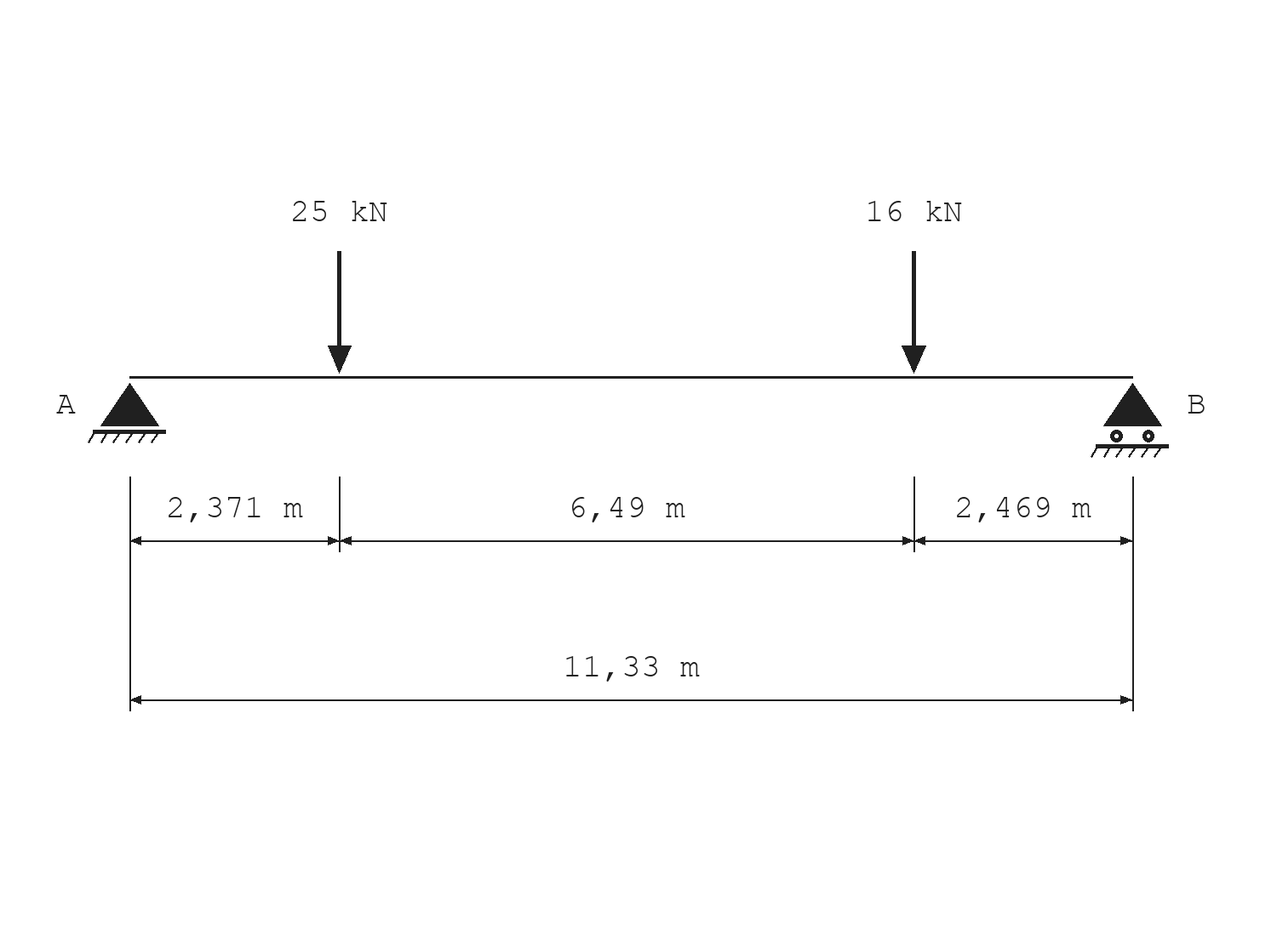pin_support: (88, 383, 166, 443)
point_load: (328, 251, 352, 374), (902, 251, 926, 374)
roller_support: (1091, 383, 1169, 458)
